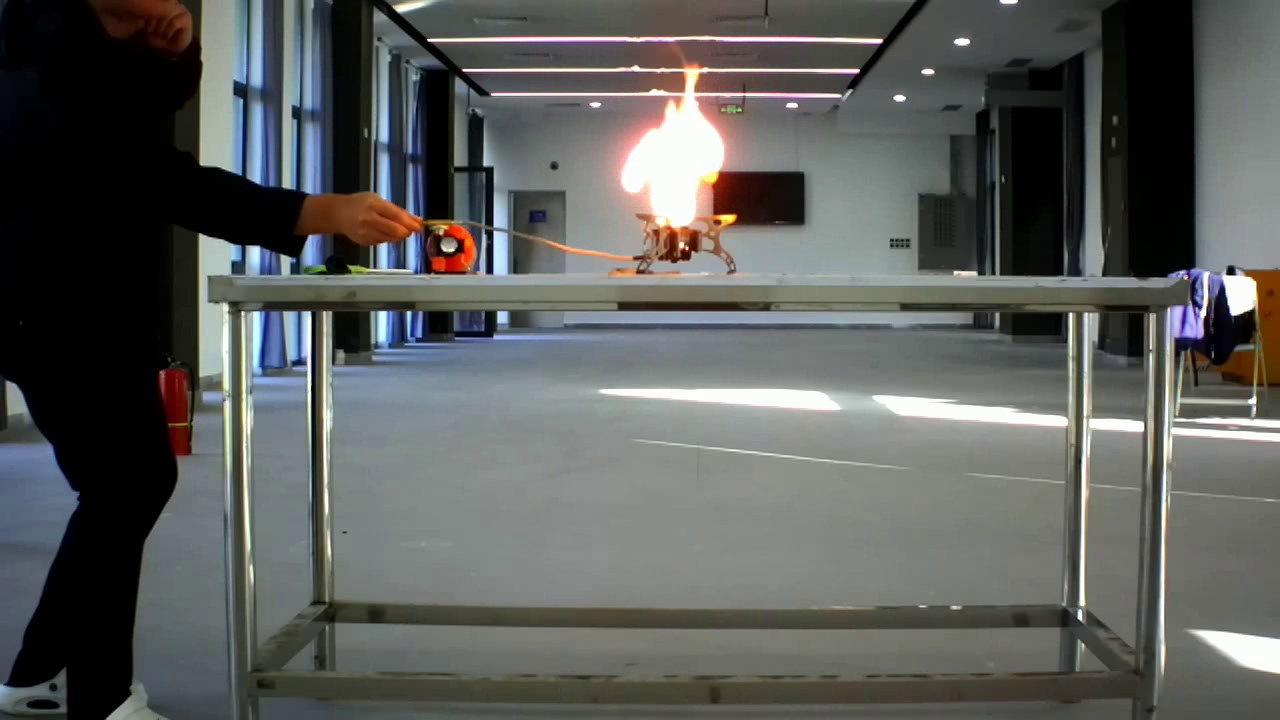Fire: (605, 56, 750, 267)
